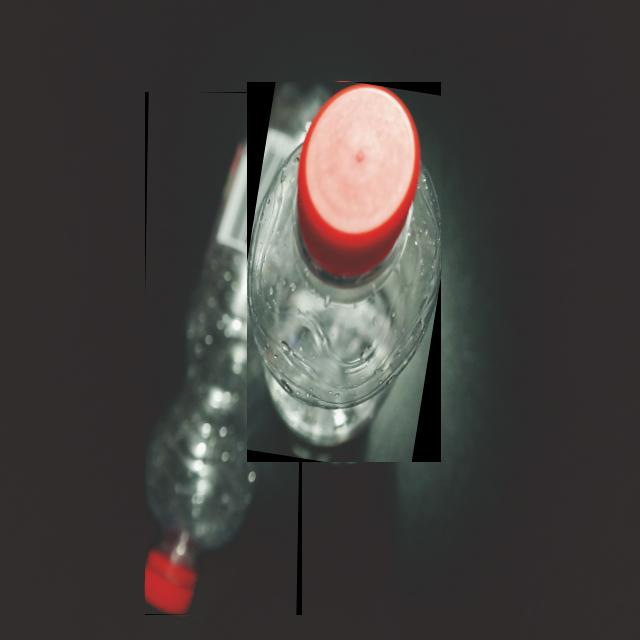Bottle: (144, 92, 300, 615), (247, 83, 439, 451)
